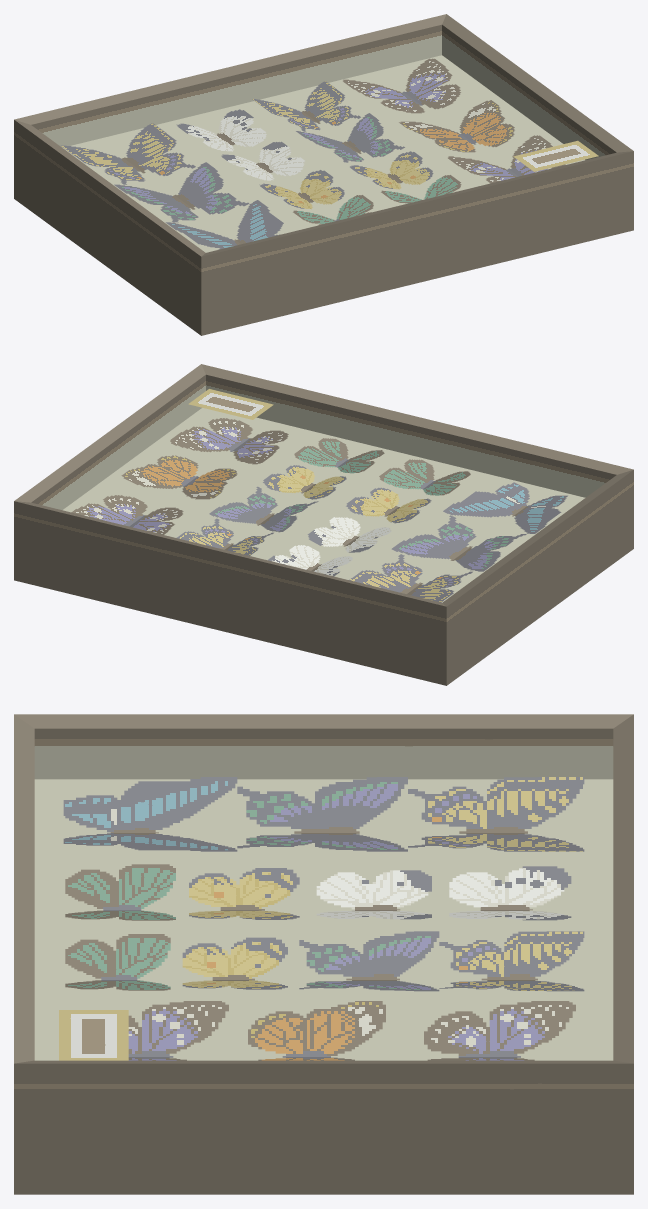
Rendered from 02ba_Butterfly_Specimens.glb.
3 renders of one model, top to bottom at view 1: azimuth 30°, elevation 25°; view 2: azimuth 150°, elevation 25°; view 3: azimuth 270°, elevation 25°, orthographic. The views are drawn at different scales.
Visible parts, largest first — view 1: part_0; view 2: part_0; view 3: part_0.
Part boxes in pixels (bbox=[...]): part_0: bbox=[14, 14, 633, 335]; part_0: bbox=[14, 364, 633, 685]; part_0: bbox=[14, 714, 633, 1194].
Size of the model in its own units: 0.4 by 0.07 by 0.3.
Materials: 1 (1 with a texture image).
